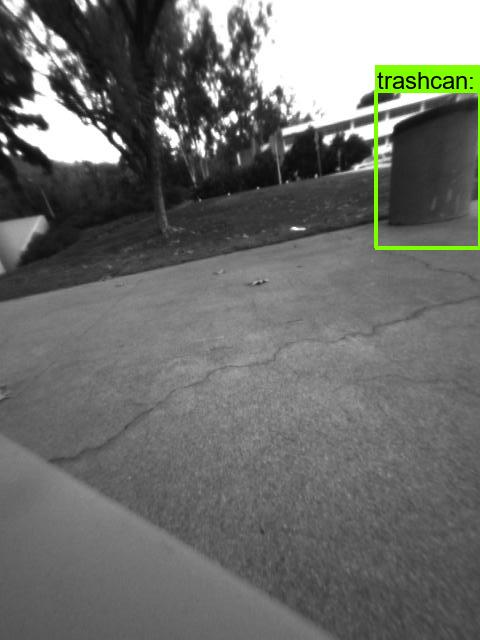trashcan: (388, 96, 480, 227)
